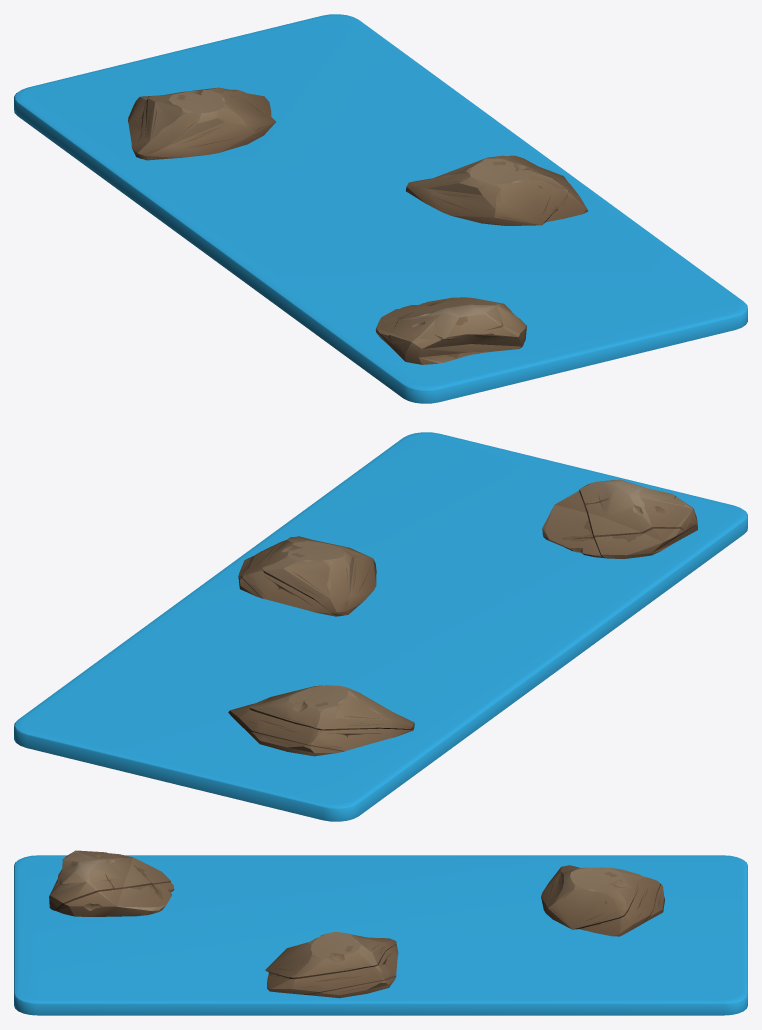
Rendered from map_scene.glb.
3 renders of one model, top to bottom at view 1: azimuth 30°, elevation 25°; view 2: azimuth 150°, elevation 25°; view 3: azimuth 270°, elevation 25°, orthographic. The views are drawn at different scales.
Parts seen in each view (by area): view 1: islandwater, level2island, level3island, level1island; view 2: islandwater, level1island, level3island, level2island; view 3: islandwater, level2island, level3island, level1island.
Part boxes in pixels (x1,y1,x2,y2): islandwater: (14, 14, 747, 403); level2island: (406, 155, 588, 225); level3island: (128, 87, 275, 160); level1island: (375, 297, 526, 364); islandwater: (14, 432, 747, 821); level1island: (542, 479, 697, 558); level3island: (228, 685, 414, 756); level2island: (238, 536, 376, 616); islandwater: (14, 855, 747, 1015); level2island: (265, 931, 398, 998); level3island: (541, 865, 664, 936); level1island: (49, 850, 174, 916).
Bounding box in the file's own units: 4.98 × 0.7209 × 10.4.
Materials: 2 (1 with a texture image).
